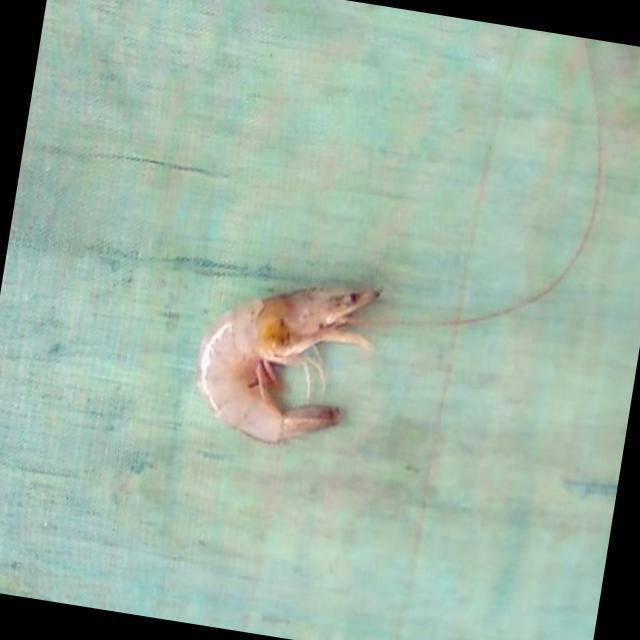shrimp: (198, 286, 380, 444)
